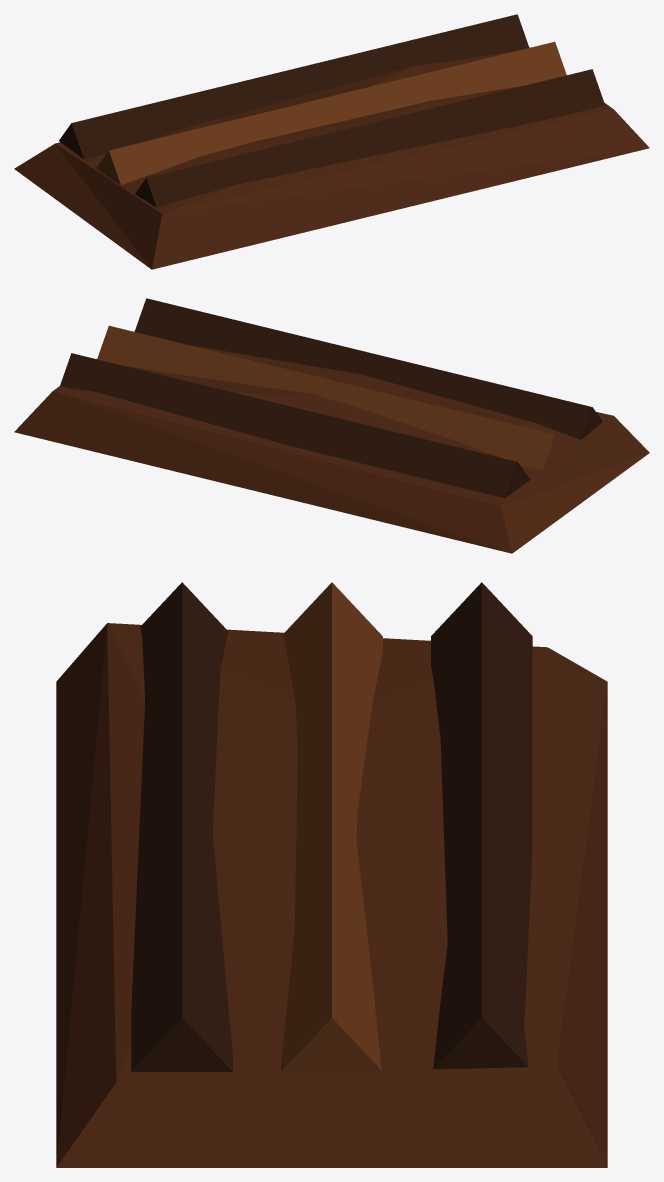
Rendered from farm_bed_2x1_furrows.obj.
The picture shows the model from 3 angles, top to bottom: view 1: azimuth 30°, elevation 25°; view 2: azimuth 150°, elevation 25°; view 3: azimuth 270°, elevation 25°; orthographic projection. The views are drawn at different scales.
Parts seen in each view (by area): view 1: soil, ridge_3, ridge_1, ridge_2; view 2: soil, ridge_1, ridge_3, ridge_2; view 3: soil, ridge_1, ridge_3, ridge_2.
Part boxes in pixels (x1=…): soil: x1=14, y1=47, x2=649, y2=269; ridge_3: x1=135, y1=69, x2=605, y2=207; ridge_1: x1=59, y1=14, x2=529, y2=159; ridge_2: x1=96, y1=41, x2=566, y2=185; soil: x1=14, y1=345, x2=649, y2=553; ridge_1: x1=60, y1=353, x2=530, y2=498; ridge_3: x1=134, y1=298, x2=602, y2=439; ridge_2: x1=97, y1=325, x2=566, y2=470; soil: x1=56, y1=623, x2=607, y2=1167; ridge_1: x1=431, y1=582, x2=532, y2=1069; ridge_3: x1=131, y1=582, x2=232, y2=1071; ridge_2: x1=281, y1=582, x2=382, y2=1071.
Bounding box in the file's own units: 1.92 × 0.23 × 0.92.
